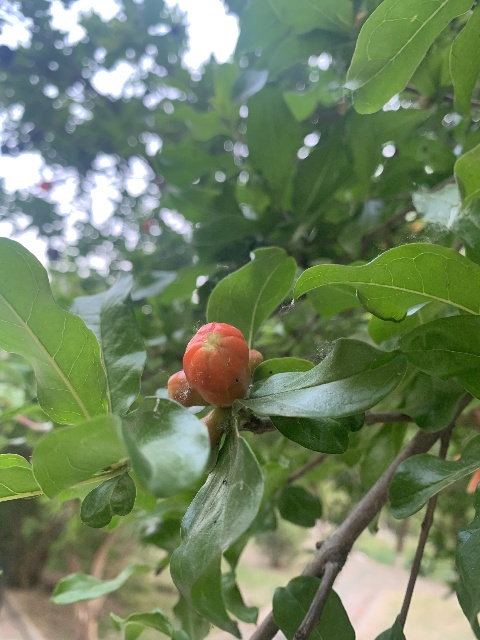bud: (182, 321, 254, 408), (167, 370, 197, 407)
